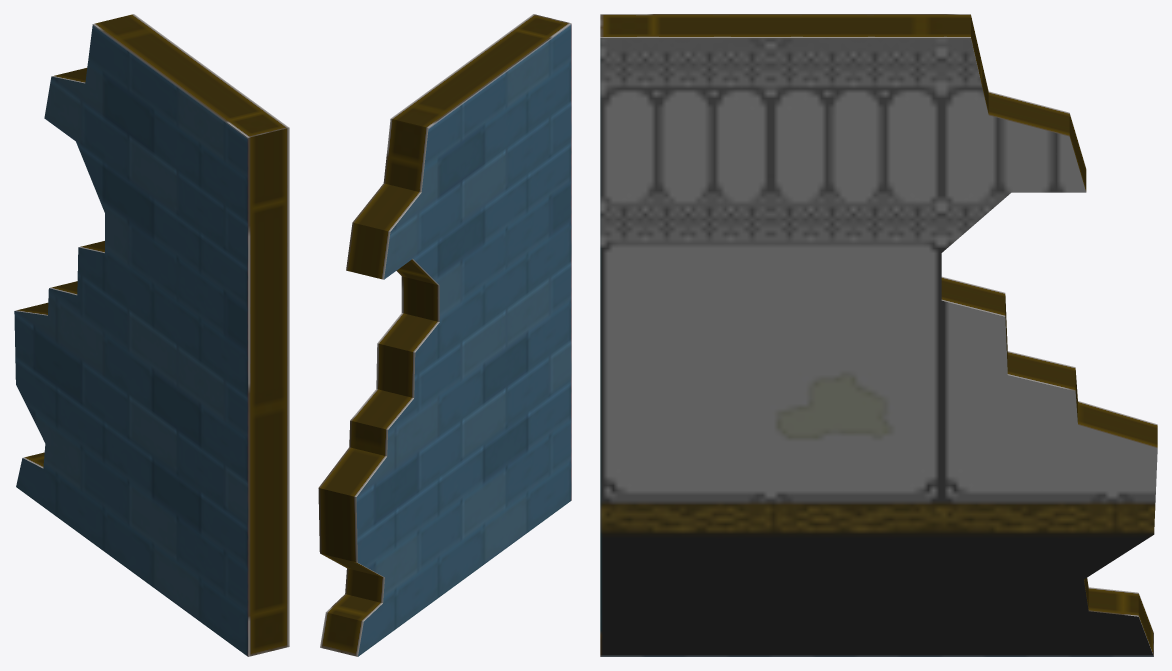
File: Wall_Broken_R_08.fbx
3 views of the same model, side by side, from view 1: azimuth 30°, elevation 25°; view 2: azimuth 150°, elevation 25°; view 3: azimuth 270°, elevation 25° (orthographic). The views are drawn at different scales.
Visible parts, largest first — view 1: Wall_Broken_R_08; view 2: Wall_Broken_R_08; view 3: Wall_Broken_R_08.
Boxes of the visible parts, x1,y1,x2,y2 form: Wall_Broken_R_08: (14, 14, 289, 656); Wall_Broken_R_08: (318, 14, 571, 656); Wall_Broken_R_08: (600, 14, 1157, 656).
Size of the model in its own units: 50 by 600 by 490.
